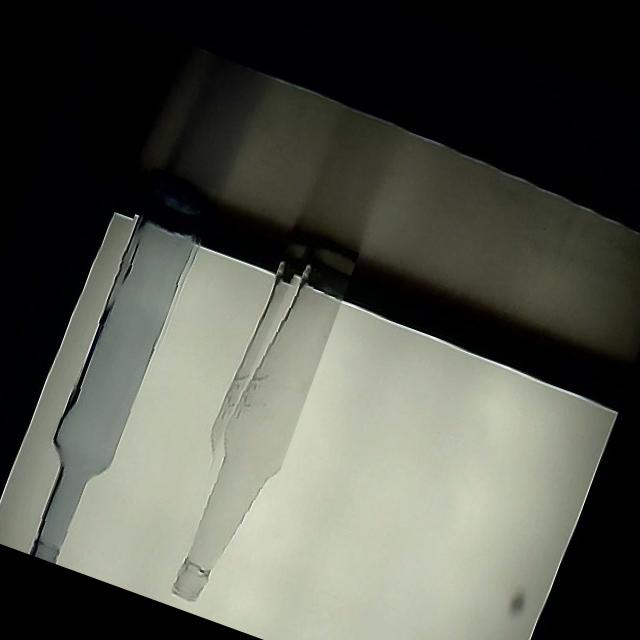Glass: (12, 165, 222, 574), (152, 225, 358, 614)
